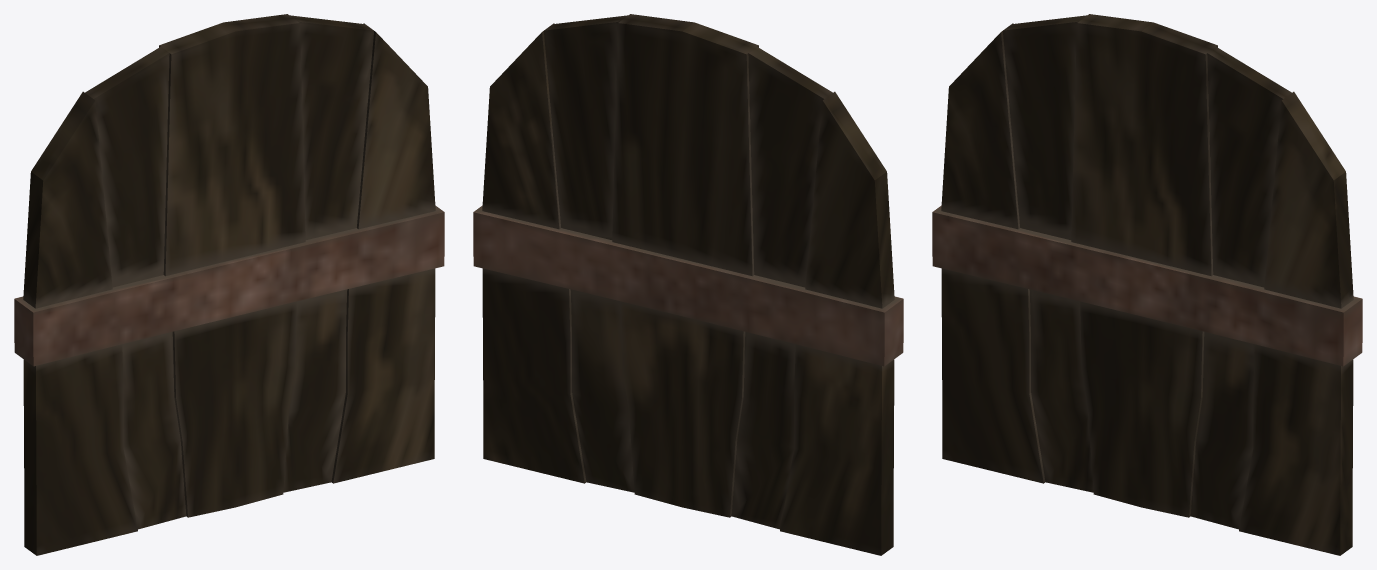
File: Exit_Door.fbx
3 views of the same model, side by side, from view 1: azimuth 30°, elevation 25°; view 2: azimuth 150°, elevation 25°; view 3: azimuth 330°, elevation 25° (orthographic).
Parts seen in each view (by area): view 1: Exit_Door; view 2: Exit_Door; view 3: Exit_Door.
Part boxes in pixels (x1,y1,x2,y2): Exit_Door: [14, 14, 444, 555]; Exit_Door: [473, 14, 903, 555]; Exit_Door: [932, 14, 1362, 555].
Size of the model in its own units: 310 by 343 by 24.8.
Materials: 1 (1 with a texture image).
